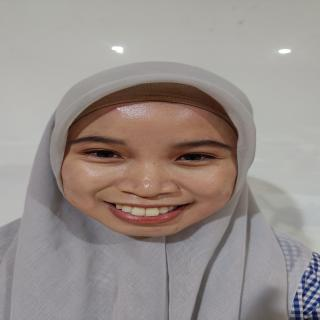Senang: (57, 86, 234, 240)
